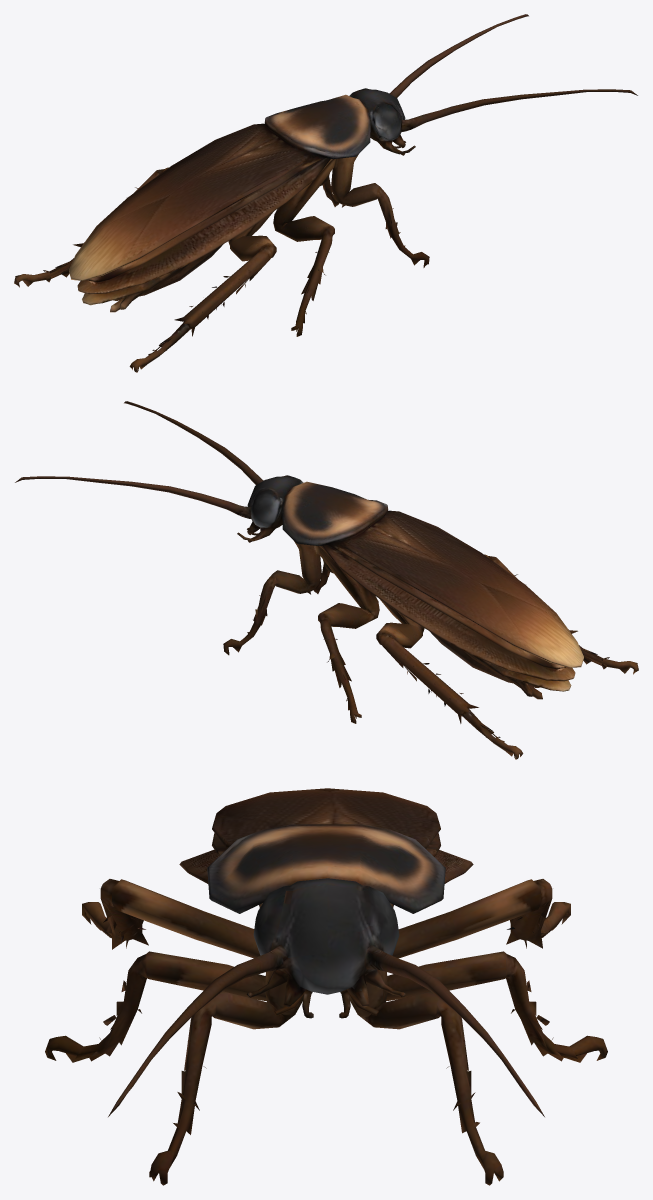
The model's file is Web_Cockroach_Low.fbx.
3 renders of one model, top to bottom at view 1: azimuth 30°, elevation 25°; view 2: azimuth 150°, elevation 25°; view 3: azimuth 270°, elevation 25°, orthographic. The views are drawn at different scales.
Visible parts, largest first — view 1: 蟑螂; view 2: 蟑螂; view 3: 蟑螂.
Boxes of the visible parts, box(x1,y1,x2,y2) form: 蟑螂: box(14, 14, 637, 372); 蟑螂: box(15, 401, 638, 759); 蟑螂: box(45, 788, 607, 1185).
Bounding box in the file's own units: 0.998 × 0.3066 × 0.4746.
Materials: 1 (1 with a texture image).
